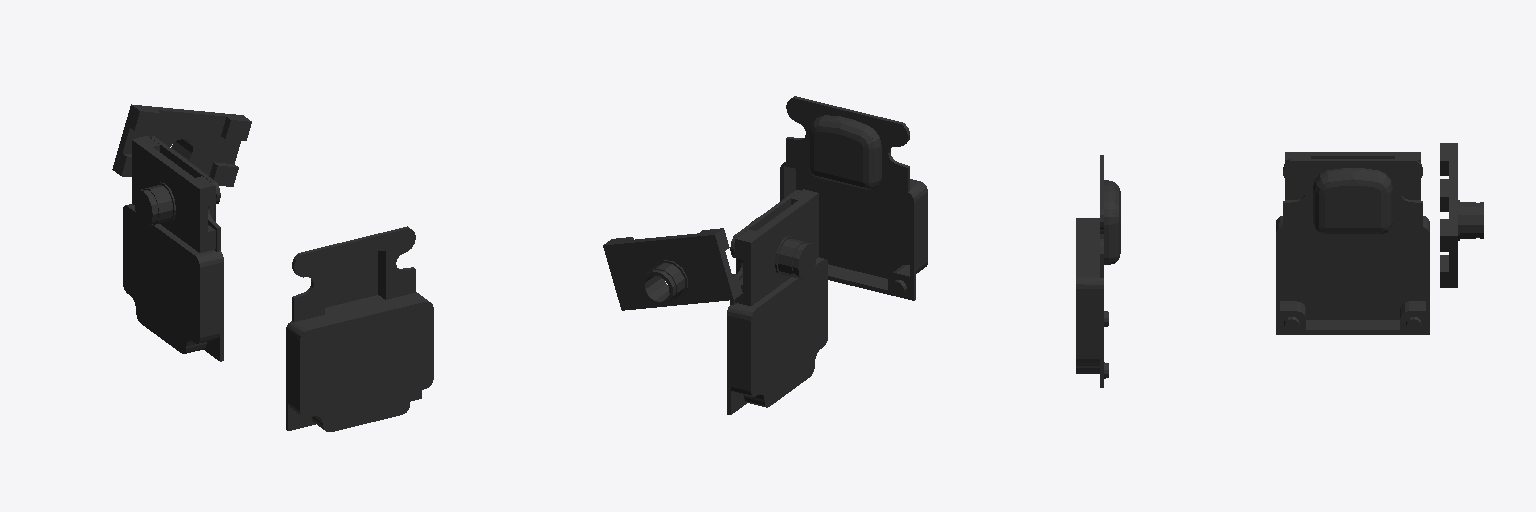
File: roki2_simlify_Dual_Servo_Al_022Copyv1_2_mesh_2.obj
3 renders of one model, left to right at view 1: azimuth 30°, elevation 25°; view 2: azimuth 150°, elevation 25°; view 3: azimuth 270°, elevation 25°, orthographic.
Size of the model in its own units: 0.0375 by 0.0447 by 0.0869.